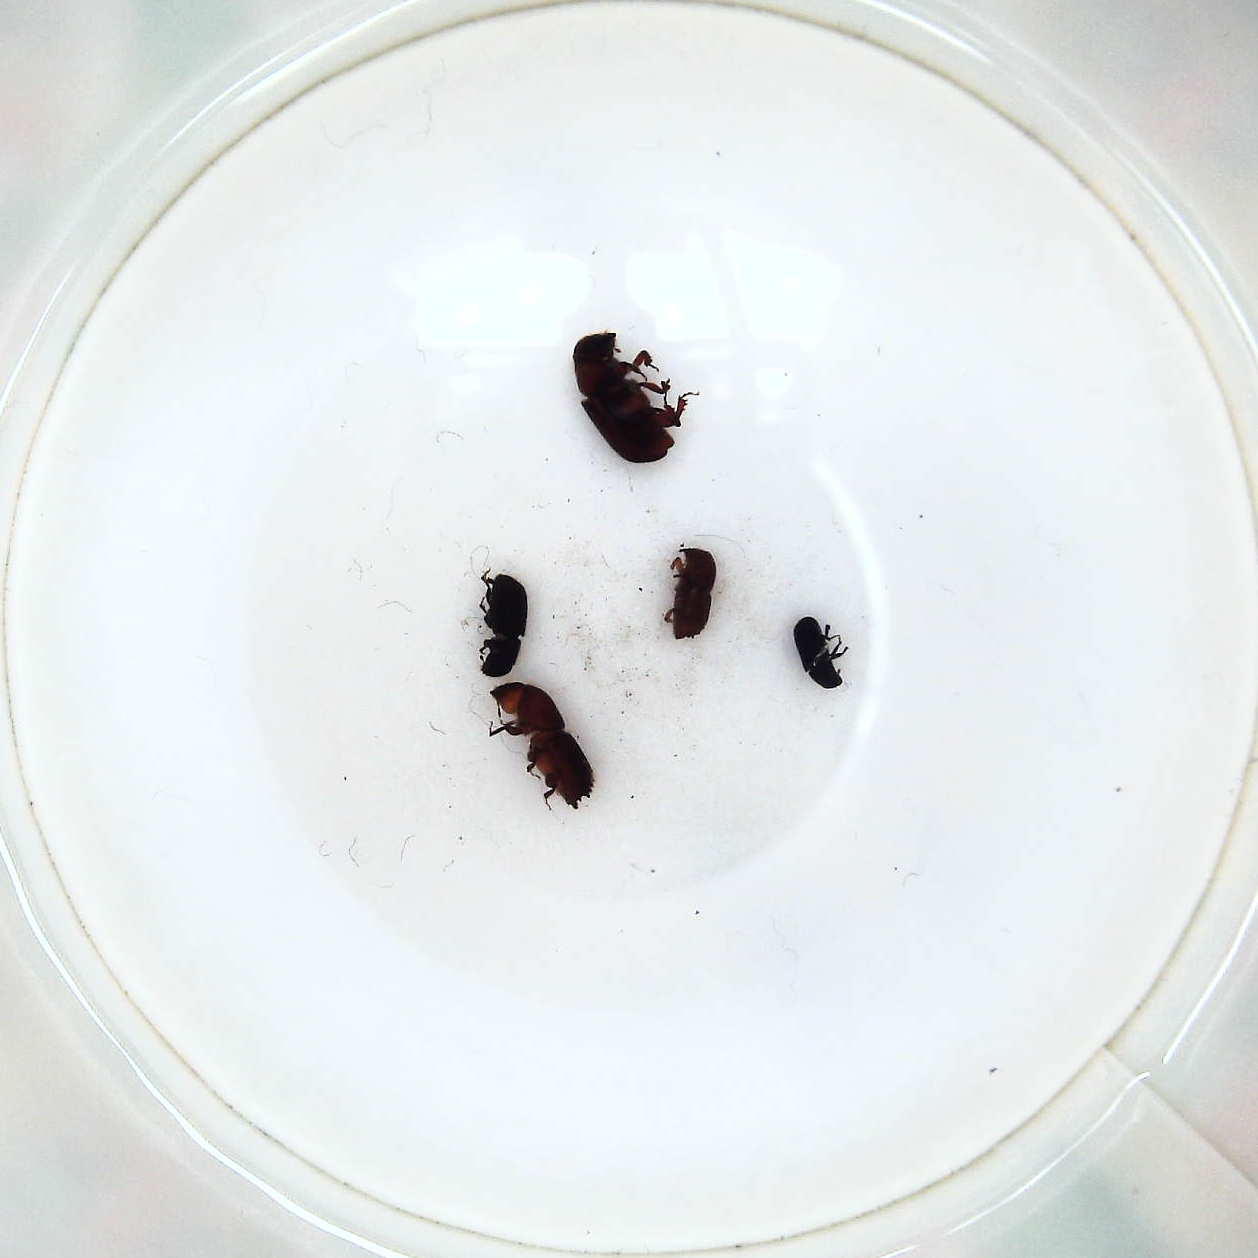Boerner: (488, 681, 600, 812)
Leconte: (568, 332, 705, 471)
armandi: (471, 566, 535, 681)
coleoptera: (788, 615, 851, 694)
linnaeus: (659, 541, 723, 641)
